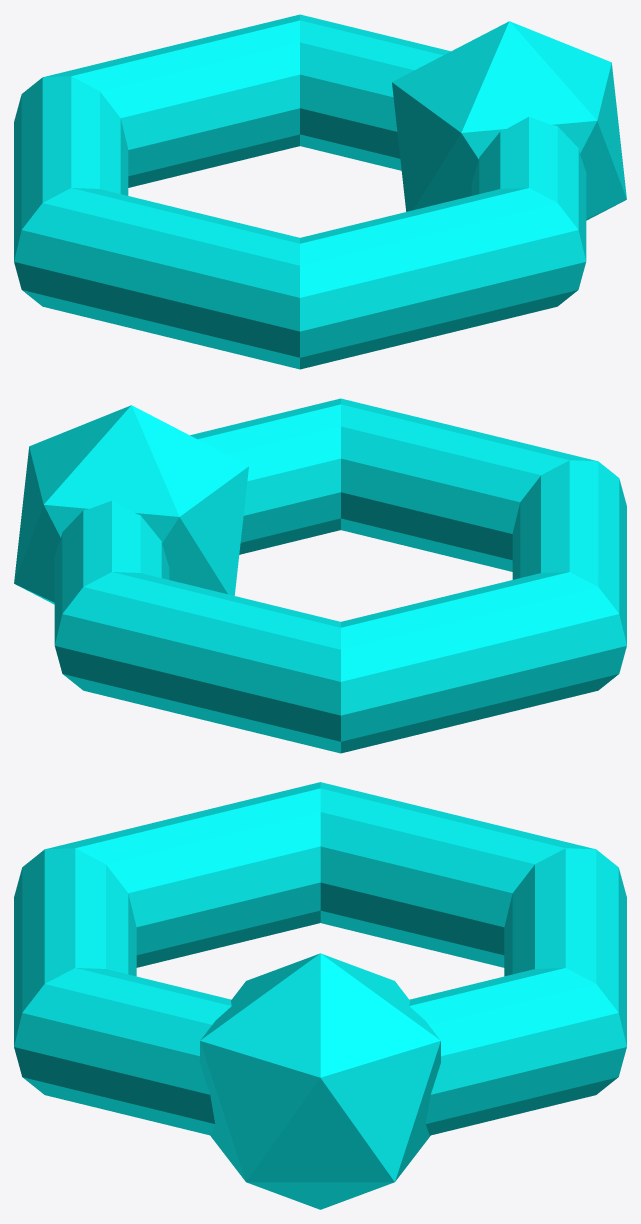
File: atom_shell.glb
The picture shows the model from 3 angles, top to bottom: view 1: azimuth 30°, elevation 25°; view 2: azimuth 150°, elevation 25°; view 3: azimuth 270°, elevation 25°; orthographic projection. The views are drawn at different scales.
Visible parts, largest first — view 1: Icosphere; view 2: Icosphere; view 3: Icosphere.
Part boxes in pixels (box(x1,y1,x2,y2)): Icosphere: box(14, 14, 626, 369); Icosphere: box(14, 398, 626, 753); Icosphere: box(14, 782, 626, 1209).
Bounding box in the file's own units: 2.61 × 1 × 2.17.
